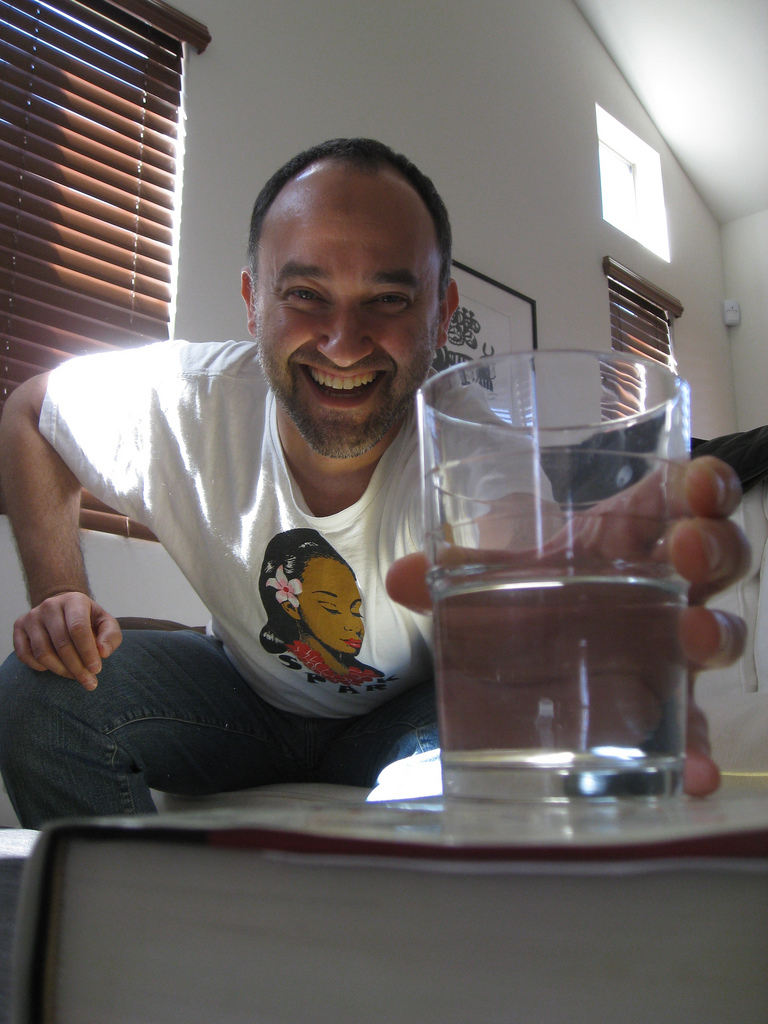glass of water: (422, 381, 722, 816)
